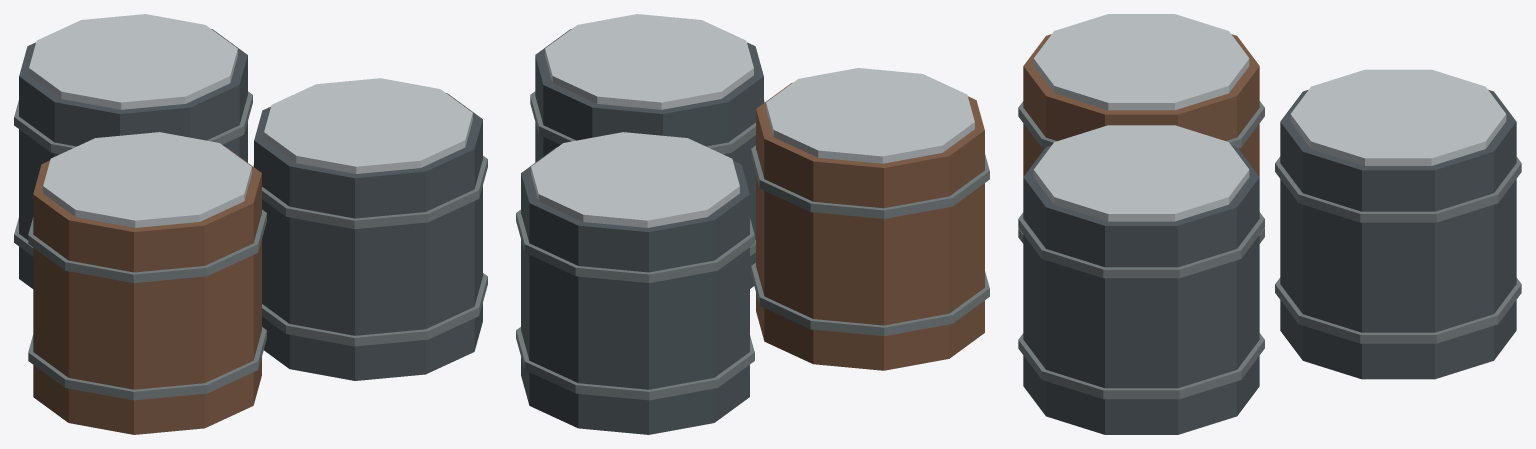
Rendered from fuel_drum_stack.glb.
3 renders of one model, left to right at view 1: azimuth 30°, elevation 25°; view 2: azimuth 150°, elevation 25°; view 3: azimuth 270°, elevation 25°, orthographic. The views are drawn at different scales.
Parts seen in each view (by area): view 1: fuel_drum_stack; view 2: fuel_drum_stack; view 3: fuel_drum_stack.
Boxes of the visible parts, <box> form: fuel_drum_stack: <box>14,14,487,434</box>; fuel_drum_stack: <box>516,14,989,434</box>; fuel_drum_stack: <box>1018,14,1521,434</box>.
Bounding box in the file's own units: 2 × 0.95 × 2.
